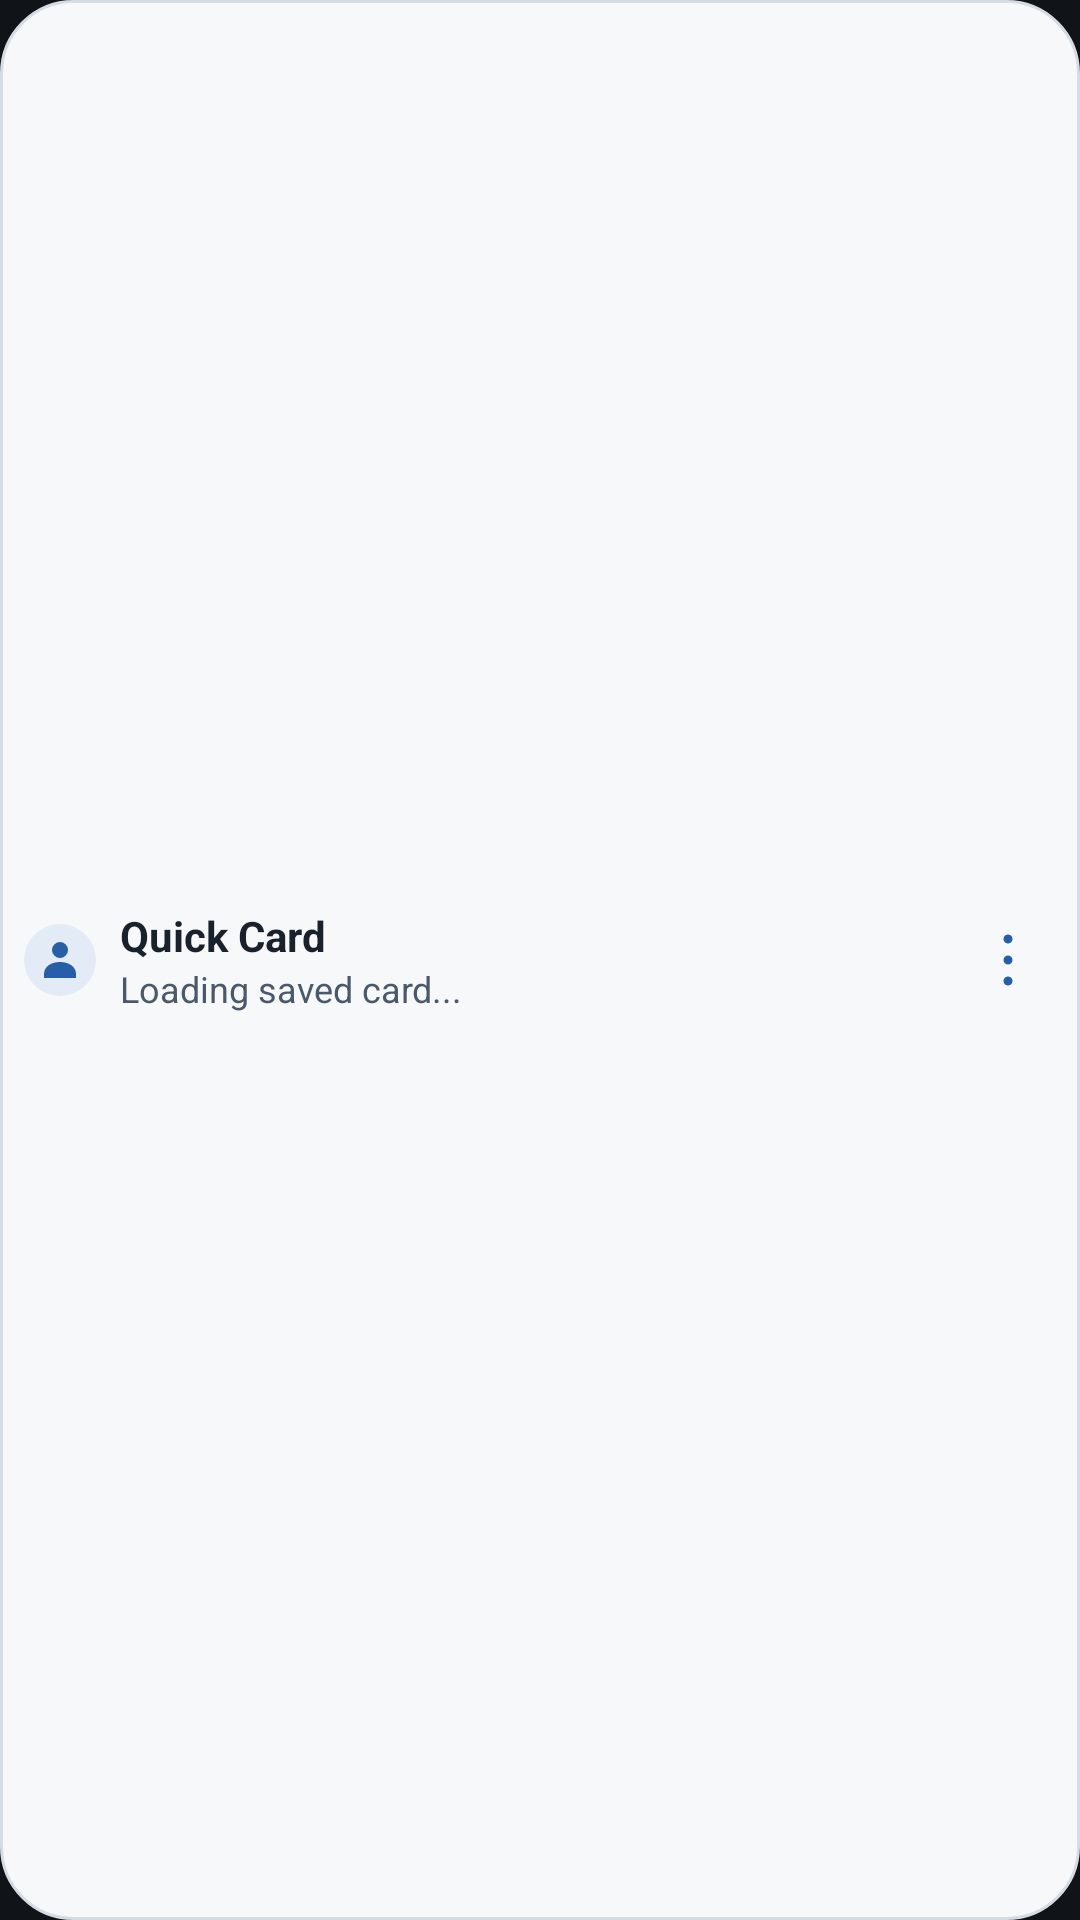

Icons on this 1080 x 1920 Android screen, each with its box as bbox=[x1, y1, x2, y2]:
person: bbox=[44, 942, 76, 978]
